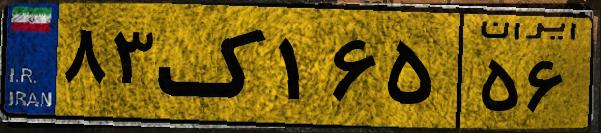1: (270, 28, 330, 110)
3: (110, 28, 158, 98)
5: (385, 28, 445, 110), (475, 38, 525, 113)
6: (330, 28, 385, 110), (525, 38, 570, 115)
8: (57, 26, 110, 100)
ک: (158, 12, 270, 120)
